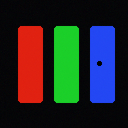0 point: (97, 61, 101, 65)
